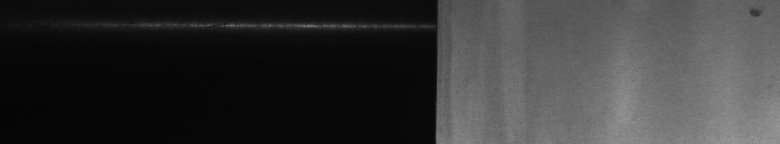fi: (745, 4, 763, 24)
